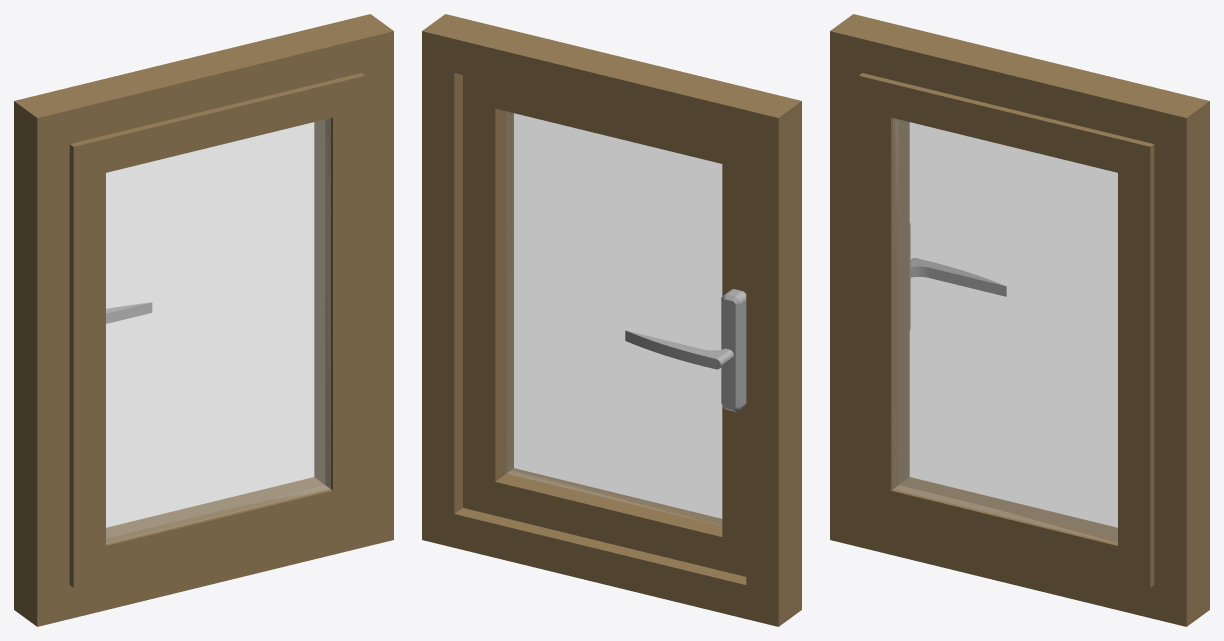
File: 38_series.glb
The picture shows the model from 3 angles, left to right: view 1: azimuth 30°, elevation 25°; view 2: azimuth 150°, elevation 25°; view 3: azimuth 330°, elevation 25°; orthographic projection.
Parts seen in each view (by area): view 1: Body1, Body3, Body5; view 2: Body1, Body3, Body4, Body5; view 3: Body1, Body3, Body5.
Part boxes in pixels (x1,y1,x2,y2): Body1: (14,14,393,626); Body3: (106,118,330,543); Body5: (106,302,152,323); Body1: (422,14,801,626); Body3: (506,112,721,525); Body4: (721,289,746,411); Body5: (625,330,733,369); Body1: (830,14,1209,626); Body3: (893,118,1117,543); Body5: (910,258,1006,296).
Size of the model in its own units: 0.11 by 0.15 by 0.022.
